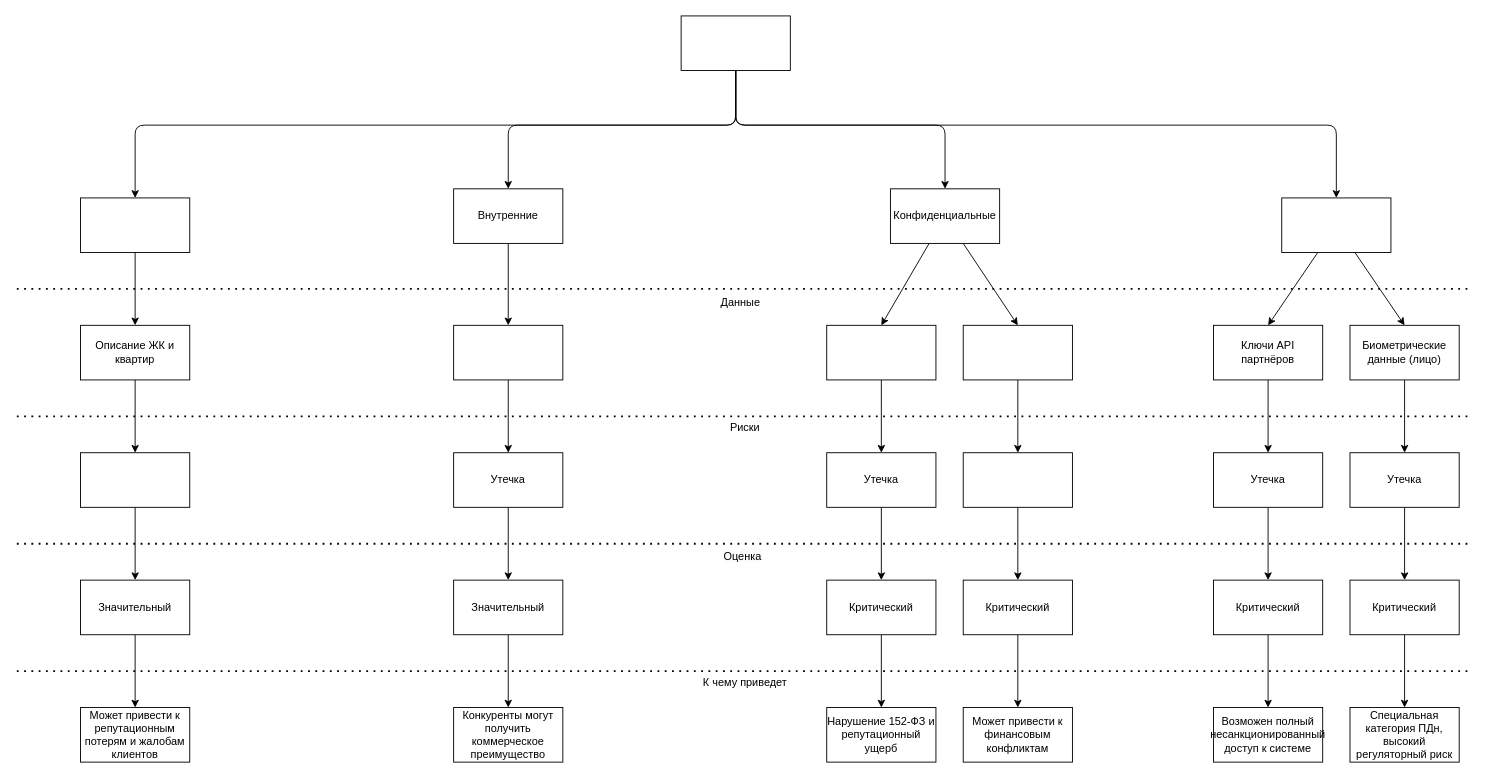
Some shapes in this 1490 by 778 pixel diagram are drawn without their labels. The centre of each missing label's shape, as x and y in pixels:
"BI-отчёты и аналитика" belongs at [508,352].
"БЕЗОПАСНОСТЬ ДАННЫХ" belongs at [735,43].
"Искажение" belongs at [1017,479].
"Искажение данных" belongs at [135,479].
"История платежей ЖКУ" belongs at [1017,352].
"ПДн клиентов (ФИО, телефон, email)" belongs at [881,352].
"Публичные" belongs at [135,225].
"Секретные" belongs at [1336,225].
